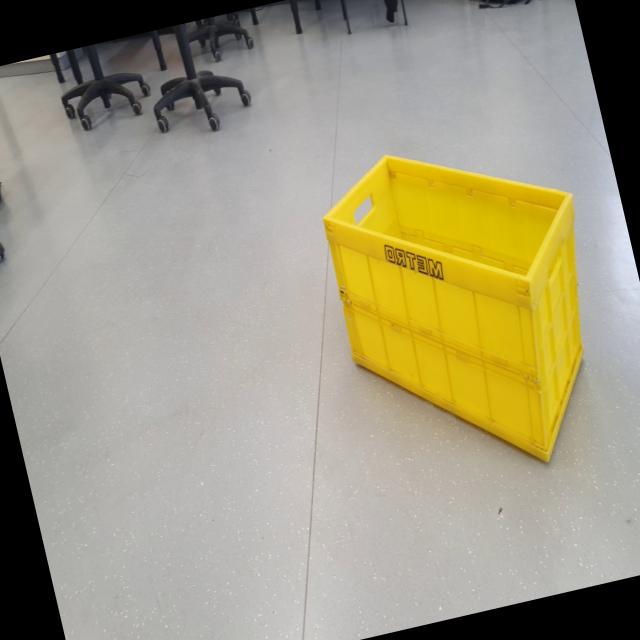box: (306, 111, 635, 504)
